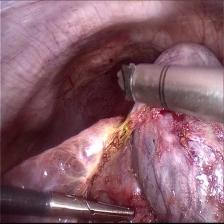Clipper: (115, 58, 160, 111)
Grasper: (50, 184, 136, 224)
